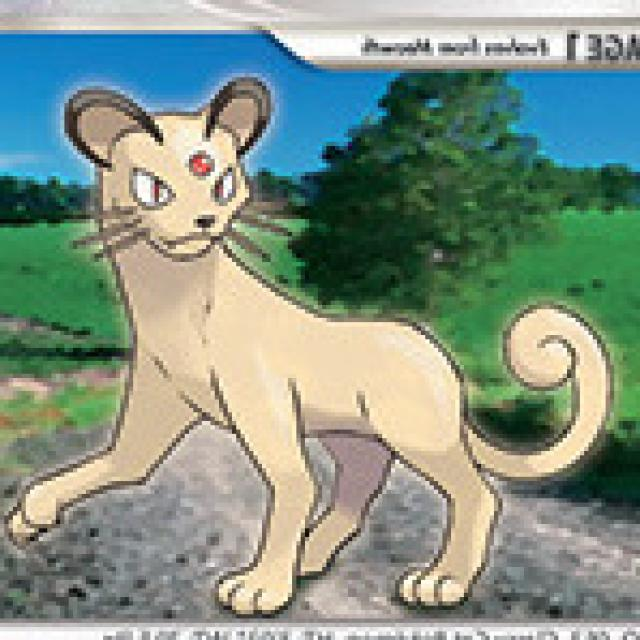Persian: (4, 77, 508, 605)
